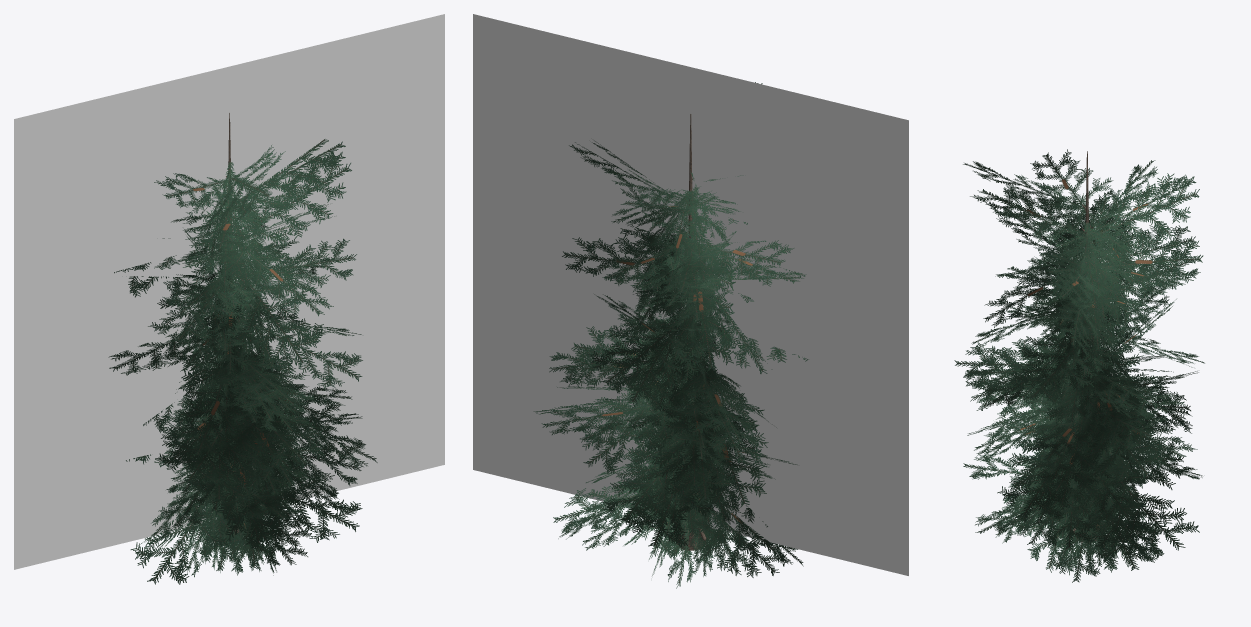
The model's file is epicea_jeune_a.fbx.
3 views of the same model, side by side, from view 1: azimuth 30°, elevation 25°; view 2: azimuth 150°, elevation 25°; view 3: azimuth 270°, elevation 25° (orthographic). The views are drawn at different scales.
Parts seen in each view (by area): view 1: epicea_jeune_a_LOD3, epicea_jeune_a_LOD1; view 2: epicea_jeune_a_LOD3, epicea_jeune_a_LOD1; view 3: epicea_jeune_a_LOD1.
Boxes of the visible parts, x1,y1,x2,y2 form: epicea_jeune_a_LOD3: (14,14,444,569); epicea_jeune_a_LOD1: (108,113,377,584); epicea_jeune_a_LOD3: (473,14,908,575); epicea_jeune_a_LOD1: (533,82,808,588); epicea_jeune_a_LOD1: (954,149,1204,582).
Size of what is drawn, in the model's own units: 4.44 by 5.12 by 2.95.
